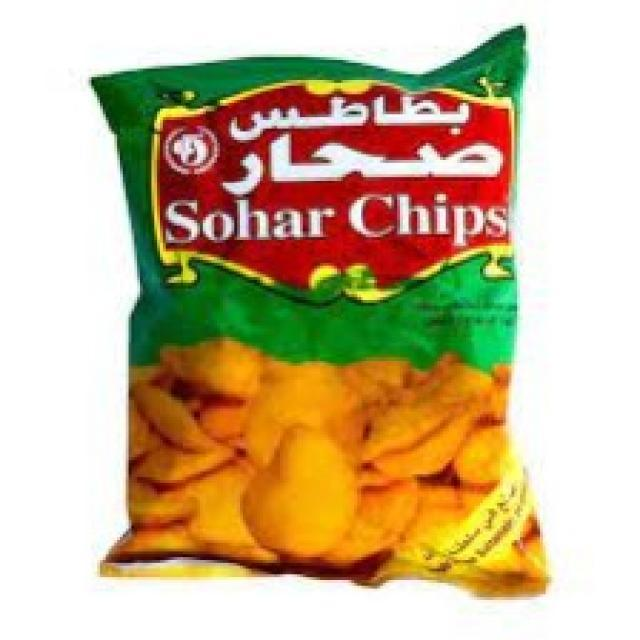plastic: (73, 21, 568, 595)
